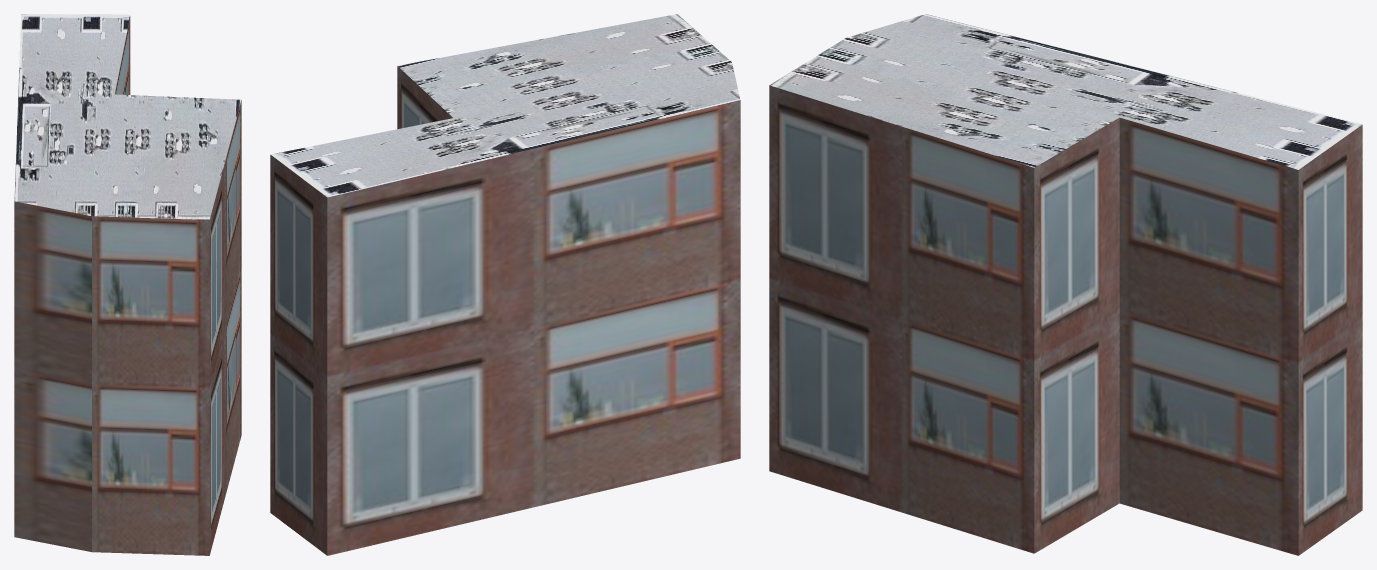
Rendered from ResTex__1146.fbx.
The picture shows the model from 3 angles, left to right: view 1: azimuth 30°, elevation 25°; view 2: azimuth 150°, elevation 25°; view 3: azimuth 270°, elevation 25°; orthographic projection. The views are drawn at different scales.
Parts seen in each view (by area): view 1: CityEngineMaterial_19_m, CityEngineMaterial_15_m; view 2: CityEngineMaterial_19_m, CityEngineMaterial_15_m; view 3: CityEngineMaterial_19_m, CityEngineMaterial_15_m.
Boxes of the visible parts, <box> form: CityEngineMaterial_19_m: <box>14,16,241,555</box>; CityEngineMaterial_15_m: <box>14,14,241,219</box>; CityEngineMaterial_19_m: <box>270,66,740,555</box>; CityEngineMaterial_15_m: <box>270,14,740,197</box>; CityEngineMaterial_19_m: <box>769,85,1362,555</box>; CityEngineMaterial_15_m: <box>769,14,1362,169</box>.
Size of the model in its own units: 5.2 by 6 by 8.36.
Materials: 2 (2 with a texture image).
